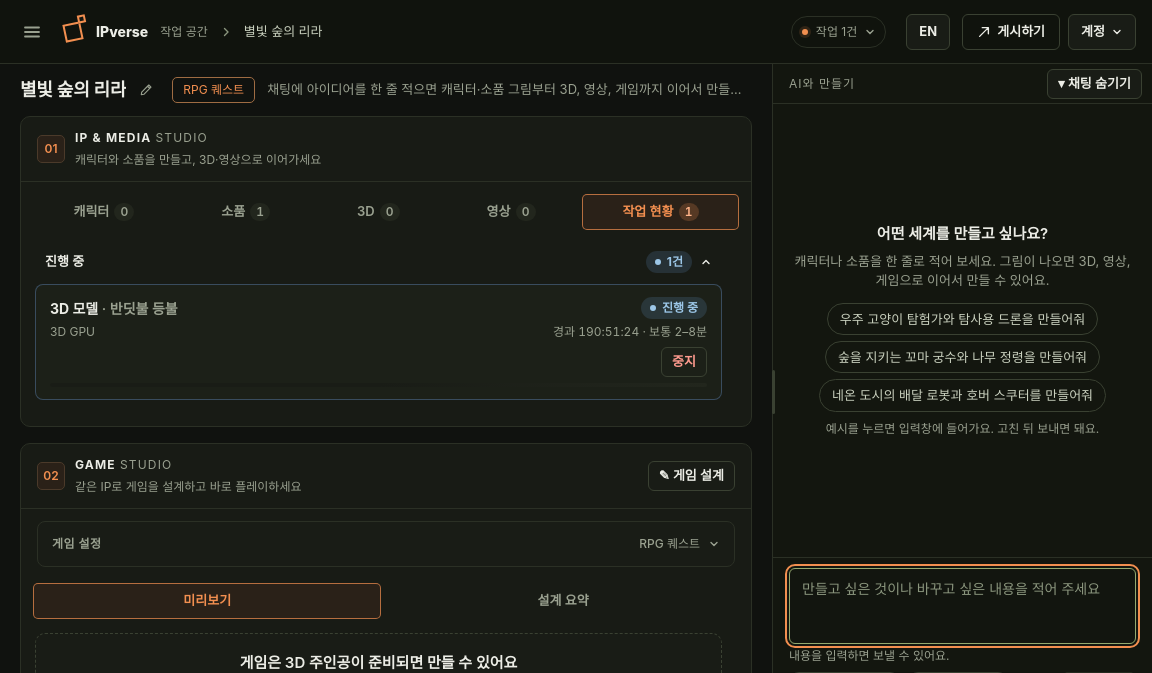
R20-41 작업 현황 stops a job › sends 중지 for the row and says so
Click the button "중지" at (684, 362), box [661,347,707,377]
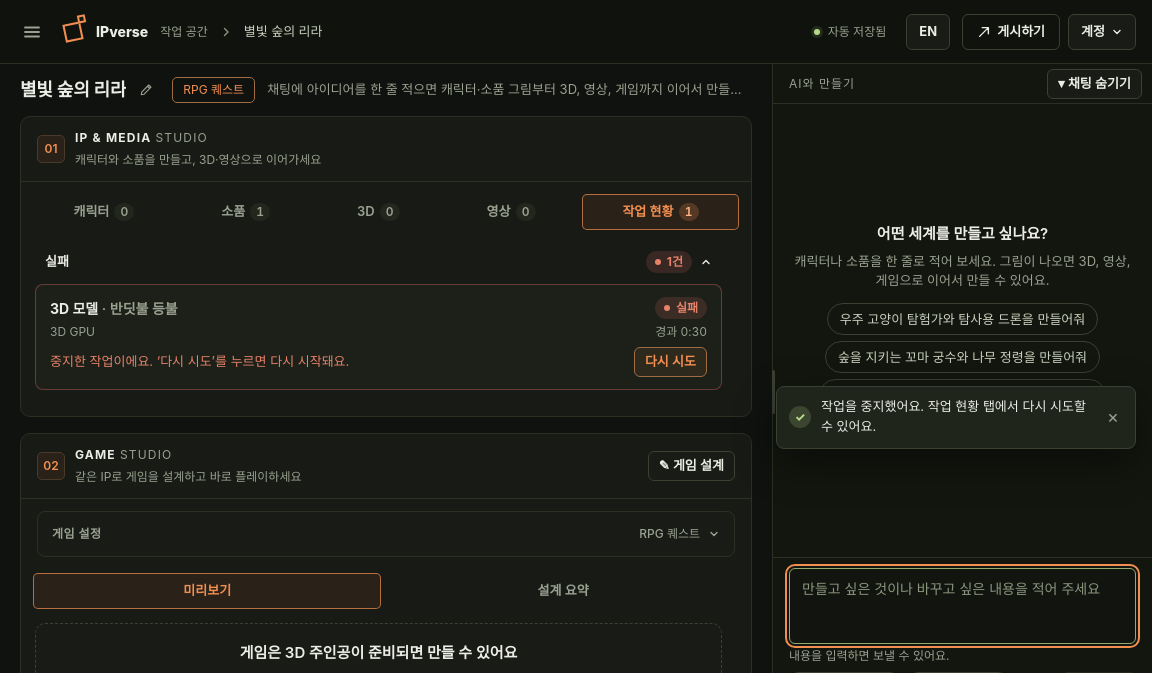
Check: the text with class "job-error" reads "중지한 작업이에요. ‘다시 시도’를 누르면 다시 시작돼요.", box [50,353,349,369]
